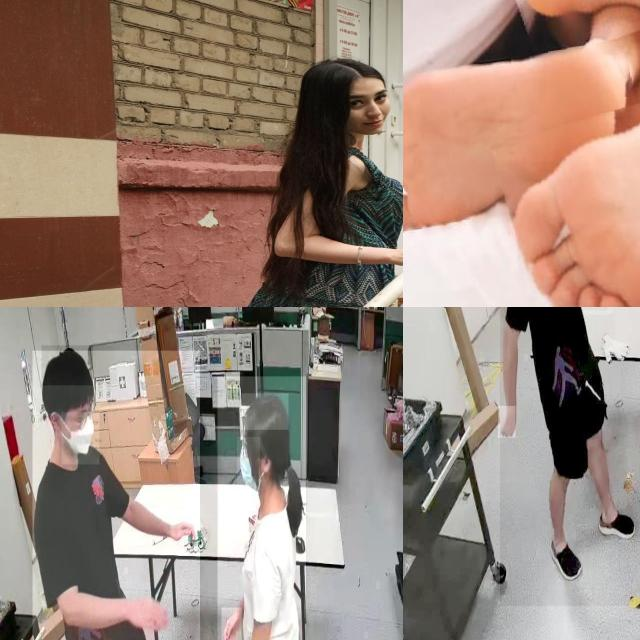Barefoots: (403, 40, 640, 236), (492, 64, 640, 307)
face_mask: (62, 412, 100, 464), (237, 437, 260, 494)
glasses: (72, 396, 100, 434)
hand_noglove: (126, 594, 170, 634), (221, 607, 242, 640), (171, 518, 197, 541), (498, 406, 516, 439)
head_nohelmet: (42, 346, 94, 386), (241, 393, 289, 431)
person: (32, 350, 200, 640), (500, 307, 640, 606), (217, 376, 306, 640)
shoes: (548, 528, 583, 584), (593, 510, 640, 542)
